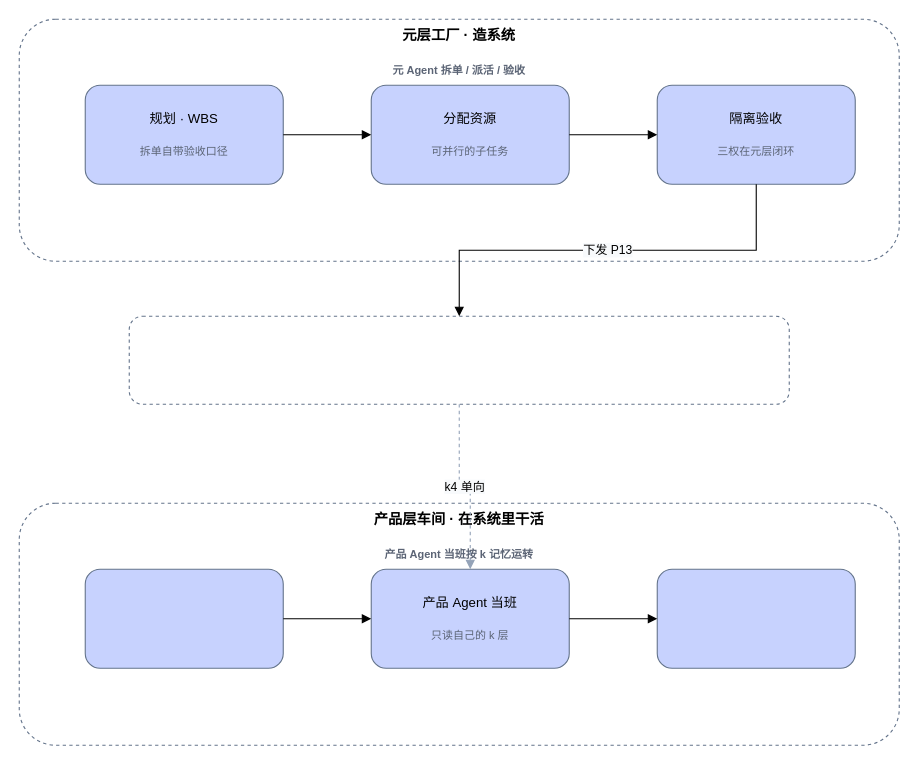
Some shapes in this 919 by 765 pixel diagram are drawn without their labels. Each missing label, with the centre of its shape:
产物下发 · 只走单向 k4 单向回流喉口: the point at 458,359
意图路由 判来意 → 落角色: the point at 183,618
留痕与复盘 经验攒在产品层: the point at 755,618
